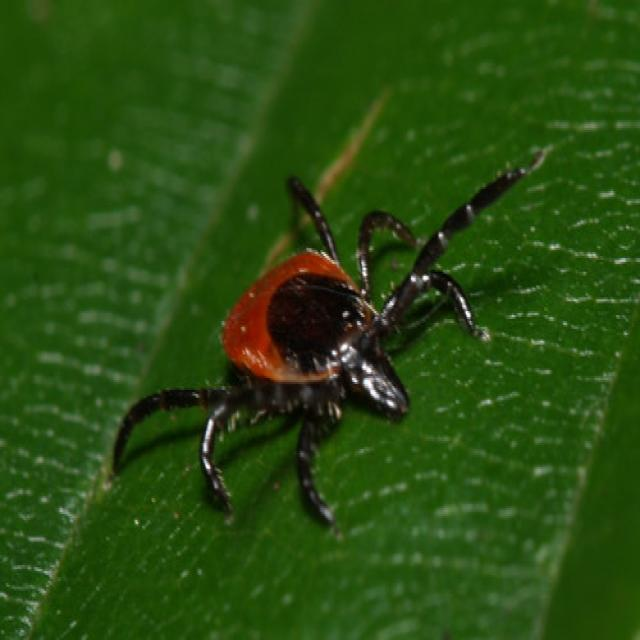Ixodes Ricinus-F: (110, 150, 549, 530)
